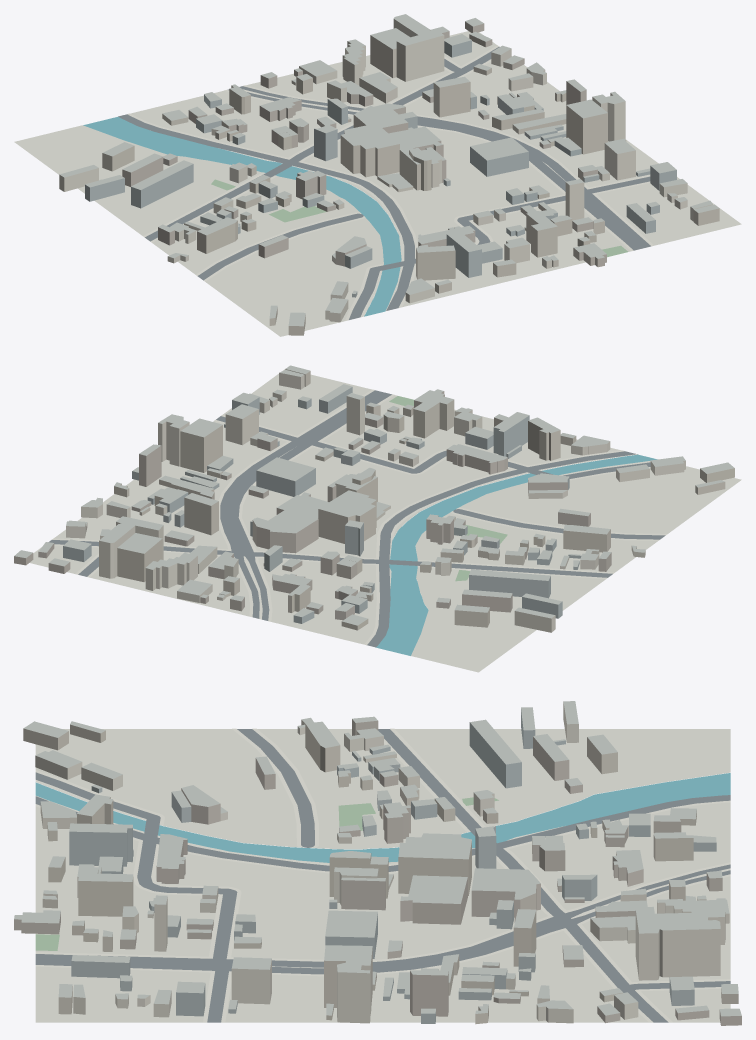
The picture shows the model from 3 angles, top to bottom: view 1: azimuth 30°, elevation 25°; view 2: azimuth 150°, elevation 25°; view 3: azimuth 270°, elevation 25°; orthographic projection. The views are drawn at different scales.
Visible parts, largest first — view 1: city; view 2: city; view 3: city.
Part boxes in pixels (bbox=[...]): city: bbox=[14, 14, 741, 336]; city: bbox=[14, 365, 741, 672]; city: bbox=[14, 701, 741, 1025].
Bounding box in the file's own units: 521 × 40.08 × 524.
